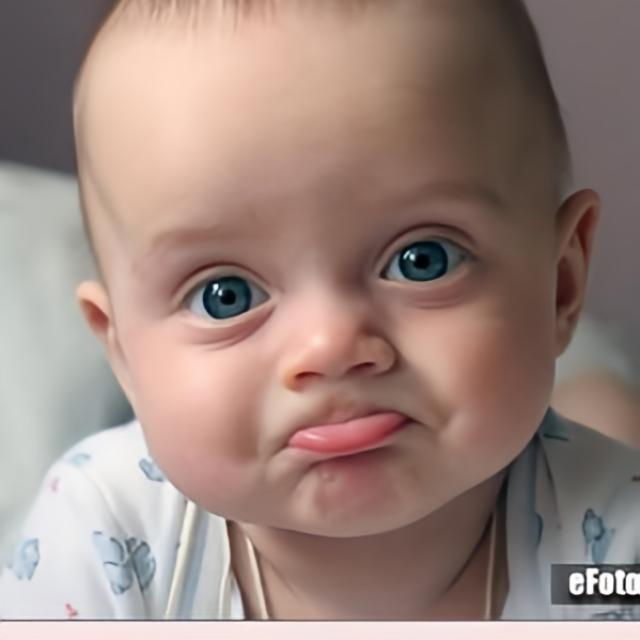surprise: (70, 0, 554, 542)
